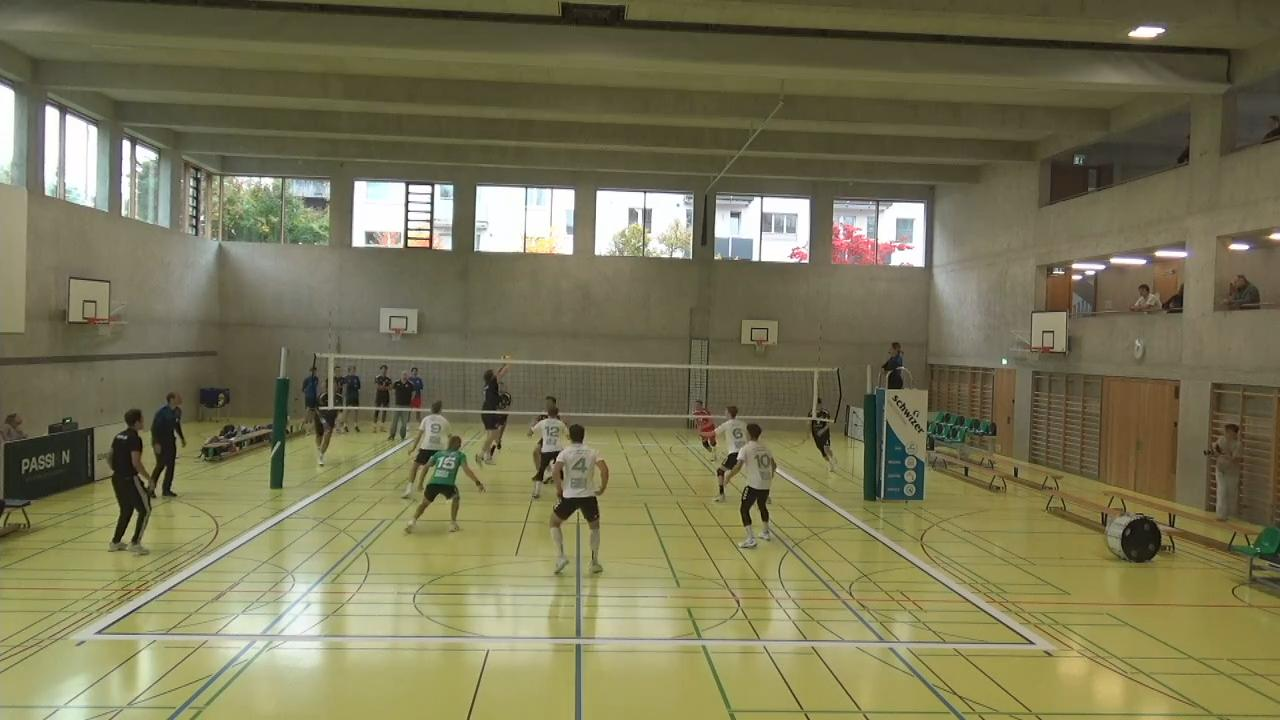Player: (551, 423, 607, 575), (409, 433, 474, 534), (733, 422, 777, 550), (403, 398, 444, 498), (529, 399, 566, 501), (307, 372, 345, 467), (712, 408, 747, 501), (809, 402, 836, 478), (488, 376, 512, 450), (694, 400, 720, 464)
Set: (476, 350, 513, 467)
ball: (497, 351, 513, 364)
